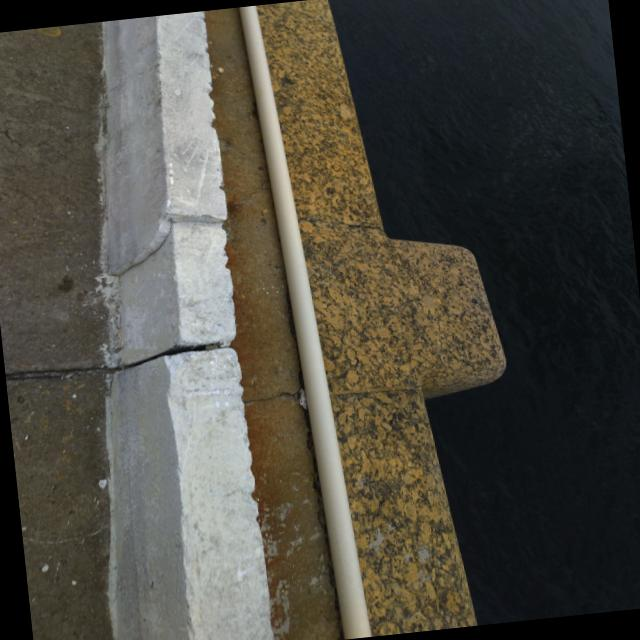gas: (236, 5, 374, 639)
